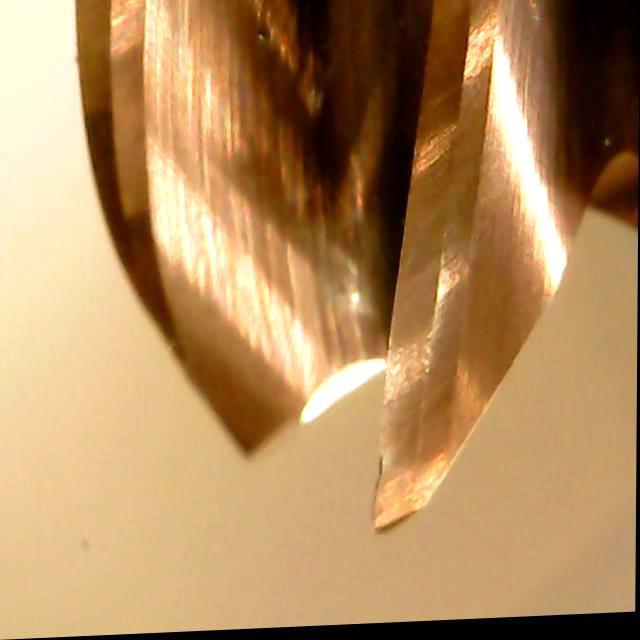Tool-wear-class-1: (357, 358, 474, 542)
